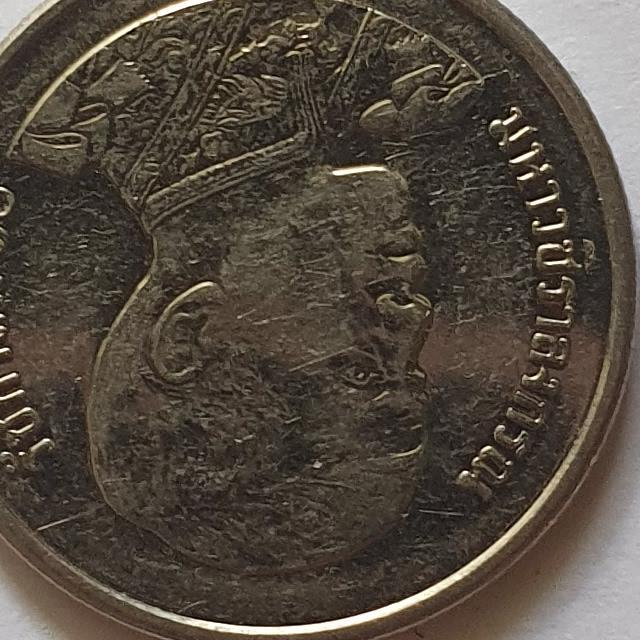2 Bath: (2, 1, 639, 640)
